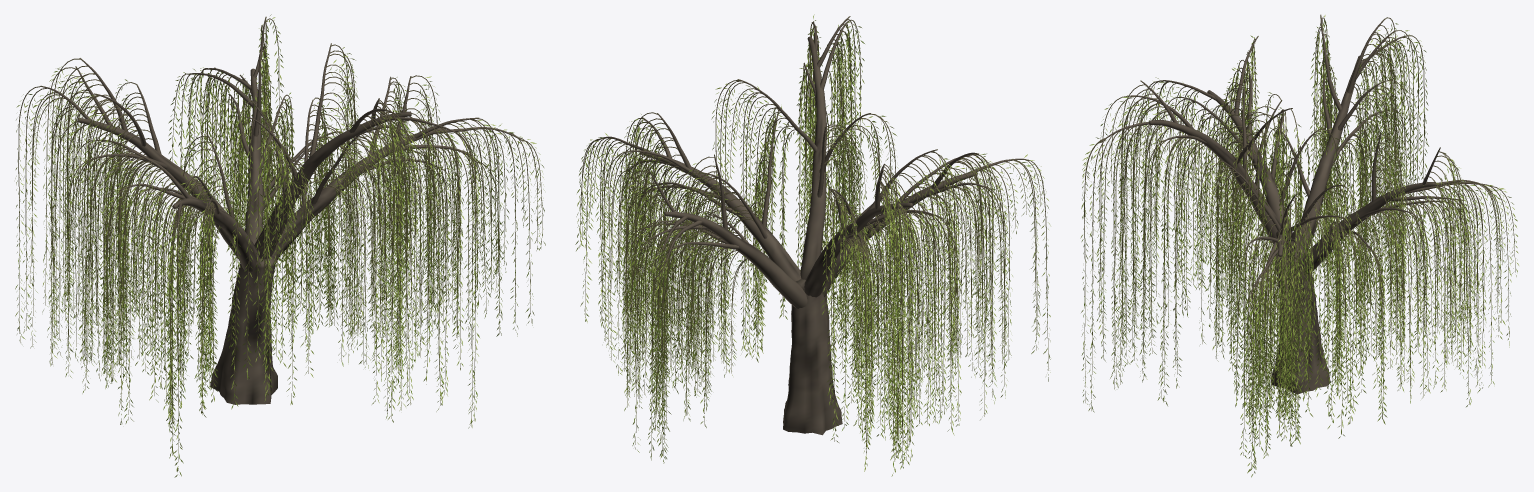
File: weeping_willow.glb
The picture shows the model from 3 angles, left to right: view 1: azimuth 30°, elevation 25°; view 2: azimuth 150°, elevation 25°; view 3: azimuth 270°, elevation 25°; orthographic projection. The views are drawn at different scales.
Parts seen in each view (by area): view 1: weeping_willow; view 2: weeping_willow; view 3: weeping_willow.
Boxes of the visible parts, box(x1,y1,x2,y2) form: weeping_willow: box(15, 14, 545, 477); weeping_willow: box(575, 14, 1050, 476); weeping_willow: box(1080, 14, 1518, 477).
Size of the model in its own units: 10.84 by 8.12 by 10.04.
